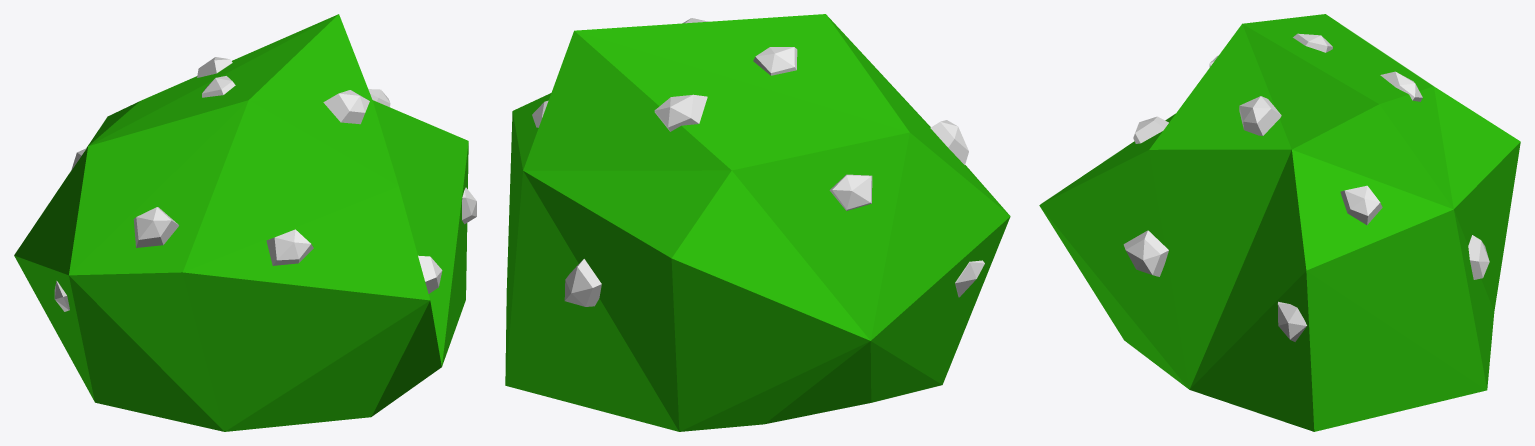
The model's file is Bush_Berry.FBX.
The picture shows the model from 3 angles, left to right: view 1: azimuth 30°, elevation 25°; view 2: azimuth 150°, elevation 25°; view 3: azimuth 270°, elevation 25°; orthographic projection. The views are drawn at different scales.
Parts seen in each view (by area): view 1: Bush1, Berry (×5); view 2: Bush1, Berry (×6); view 3: Bush1, Berry (×8).
Part boxes in pixels (x1,y1,x2,y2): Bush1: [14, 14, 468, 431]; Berry (×5): [133, 76, 442, 293]; Bush1: [505, 14, 1010, 431]; Berry (×6): [564, 47, 984, 306]; Bush1: [1039, 14, 1520, 431]; Berry (×8): [1123, 33, 1489, 341].
Bounding box in the file's own units: 115 × 74.41 × 114.
